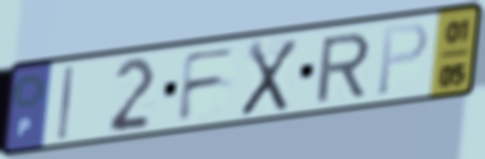2: (107, 54, 160, 137)
F: (175, 44, 240, 125)
I: (55, 63, 77, 143)
P: (374, 19, 432, 99)
R: (313, 29, 374, 106)
X: (237, 36, 301, 119)
